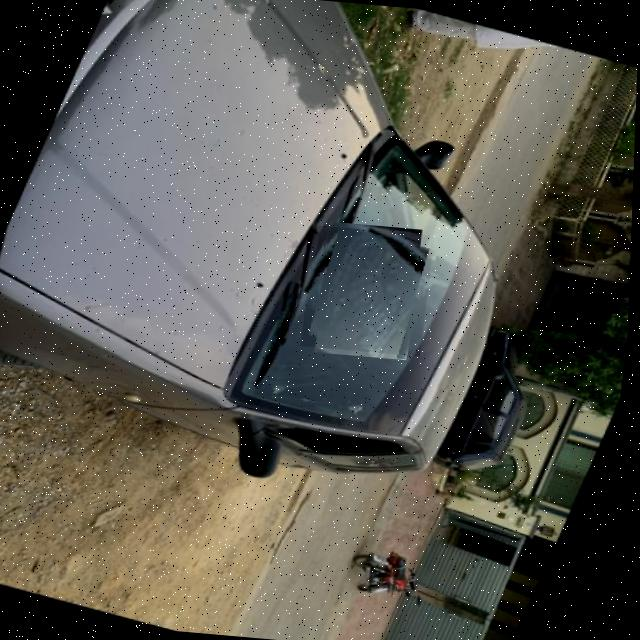no-seatbelt: (303, 224, 436, 355)
